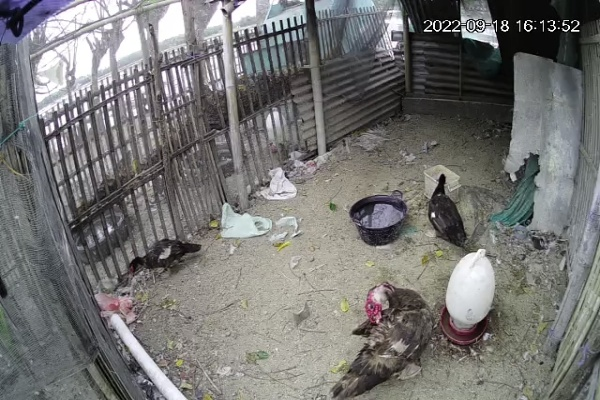Entog: (328, 282, 438, 395), (421, 170, 471, 252), (127, 235, 205, 276)
